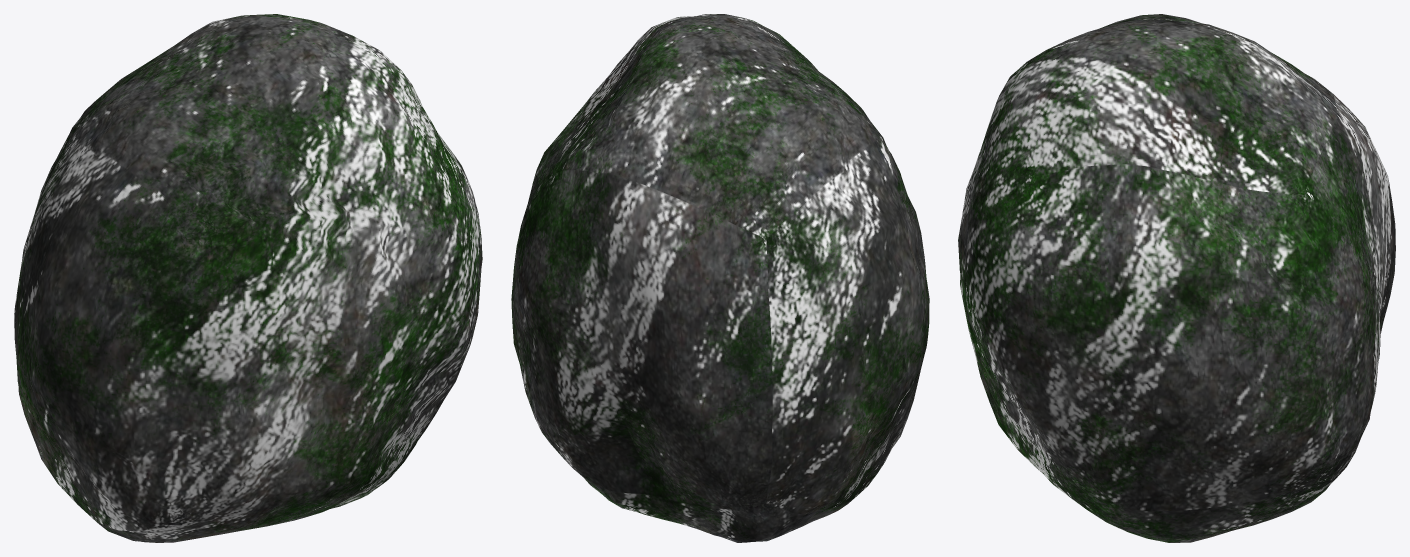
File: rock_1.fbx
The picture shows the model from 3 angles, left to right: view 1: azimuth 30°, elevation 25°; view 2: azimuth 150°, elevation 25°; view 3: azimuth 270°, elevation 25°; orthographic projection. The views are drawn at different scales.
Visible parts, largest first — view 1: PolySphere; view 2: PolySphere; view 3: PolySphere.
Boxes of the visible parts, box(x1,y1,x2,y2) form: PolySphere: box(14, 14, 482, 542); PolySphere: box(511, 14, 929, 542); PolySphere: box(958, 14, 1395, 542).
Bounding box in the file's own units: 1 × 1.17 × 0.9356.
